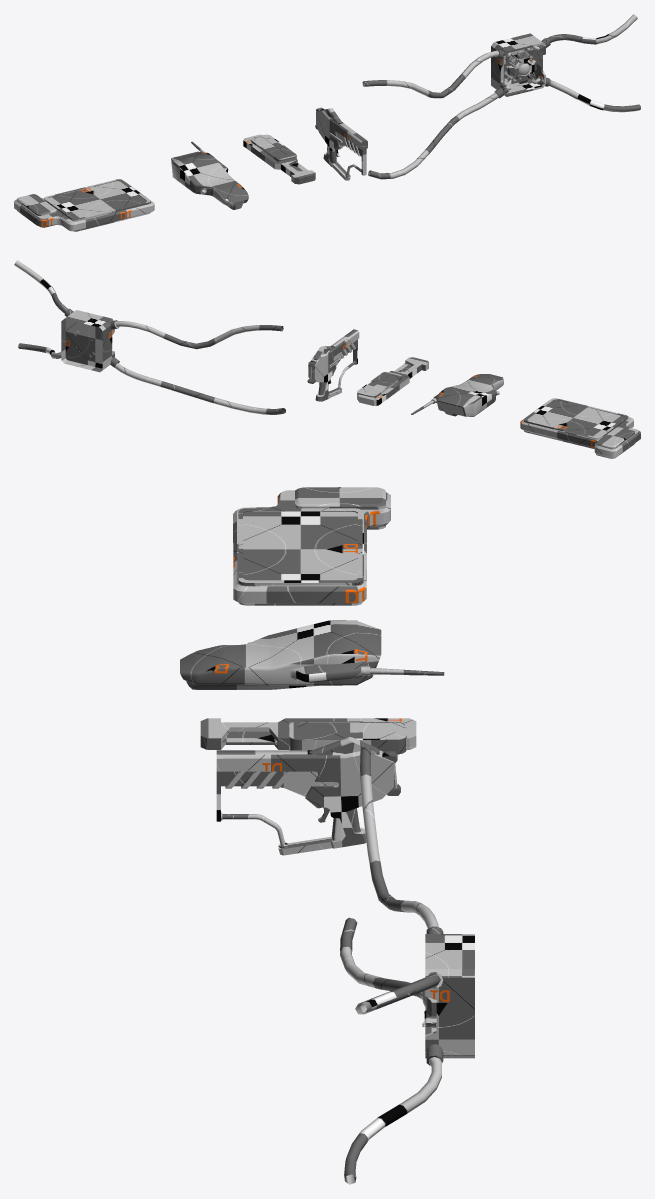
Rendered from Pack_08_Gameready.FBX.
3 renders of one model, top to bottom at view 1: azimuth 30°, elevation 25°; view 2: azimuth 150°, elevation 25°; view 3: azimuth 270°, elevation 25°, orthographic. The views are drawn at different scales.
Parts seen in each view (by area): view 1: x, Rectangle005; view 2: x, Rectangle005; view 3: x, Rectangle005.
Part boxes in pixels (x1,y1,x2,y2): x: [14, 51, 536, 231]; Rectangle005: [362, 14, 640, 179]; x: [307, 329, 640, 458]; Rectangle005: [14, 260, 285, 414]; x: [180, 487, 444, 1028]; Rectangle005: [340, 744, 474, 1184].
Size of the model in its own units: 86957 by 13439 by 18327.
